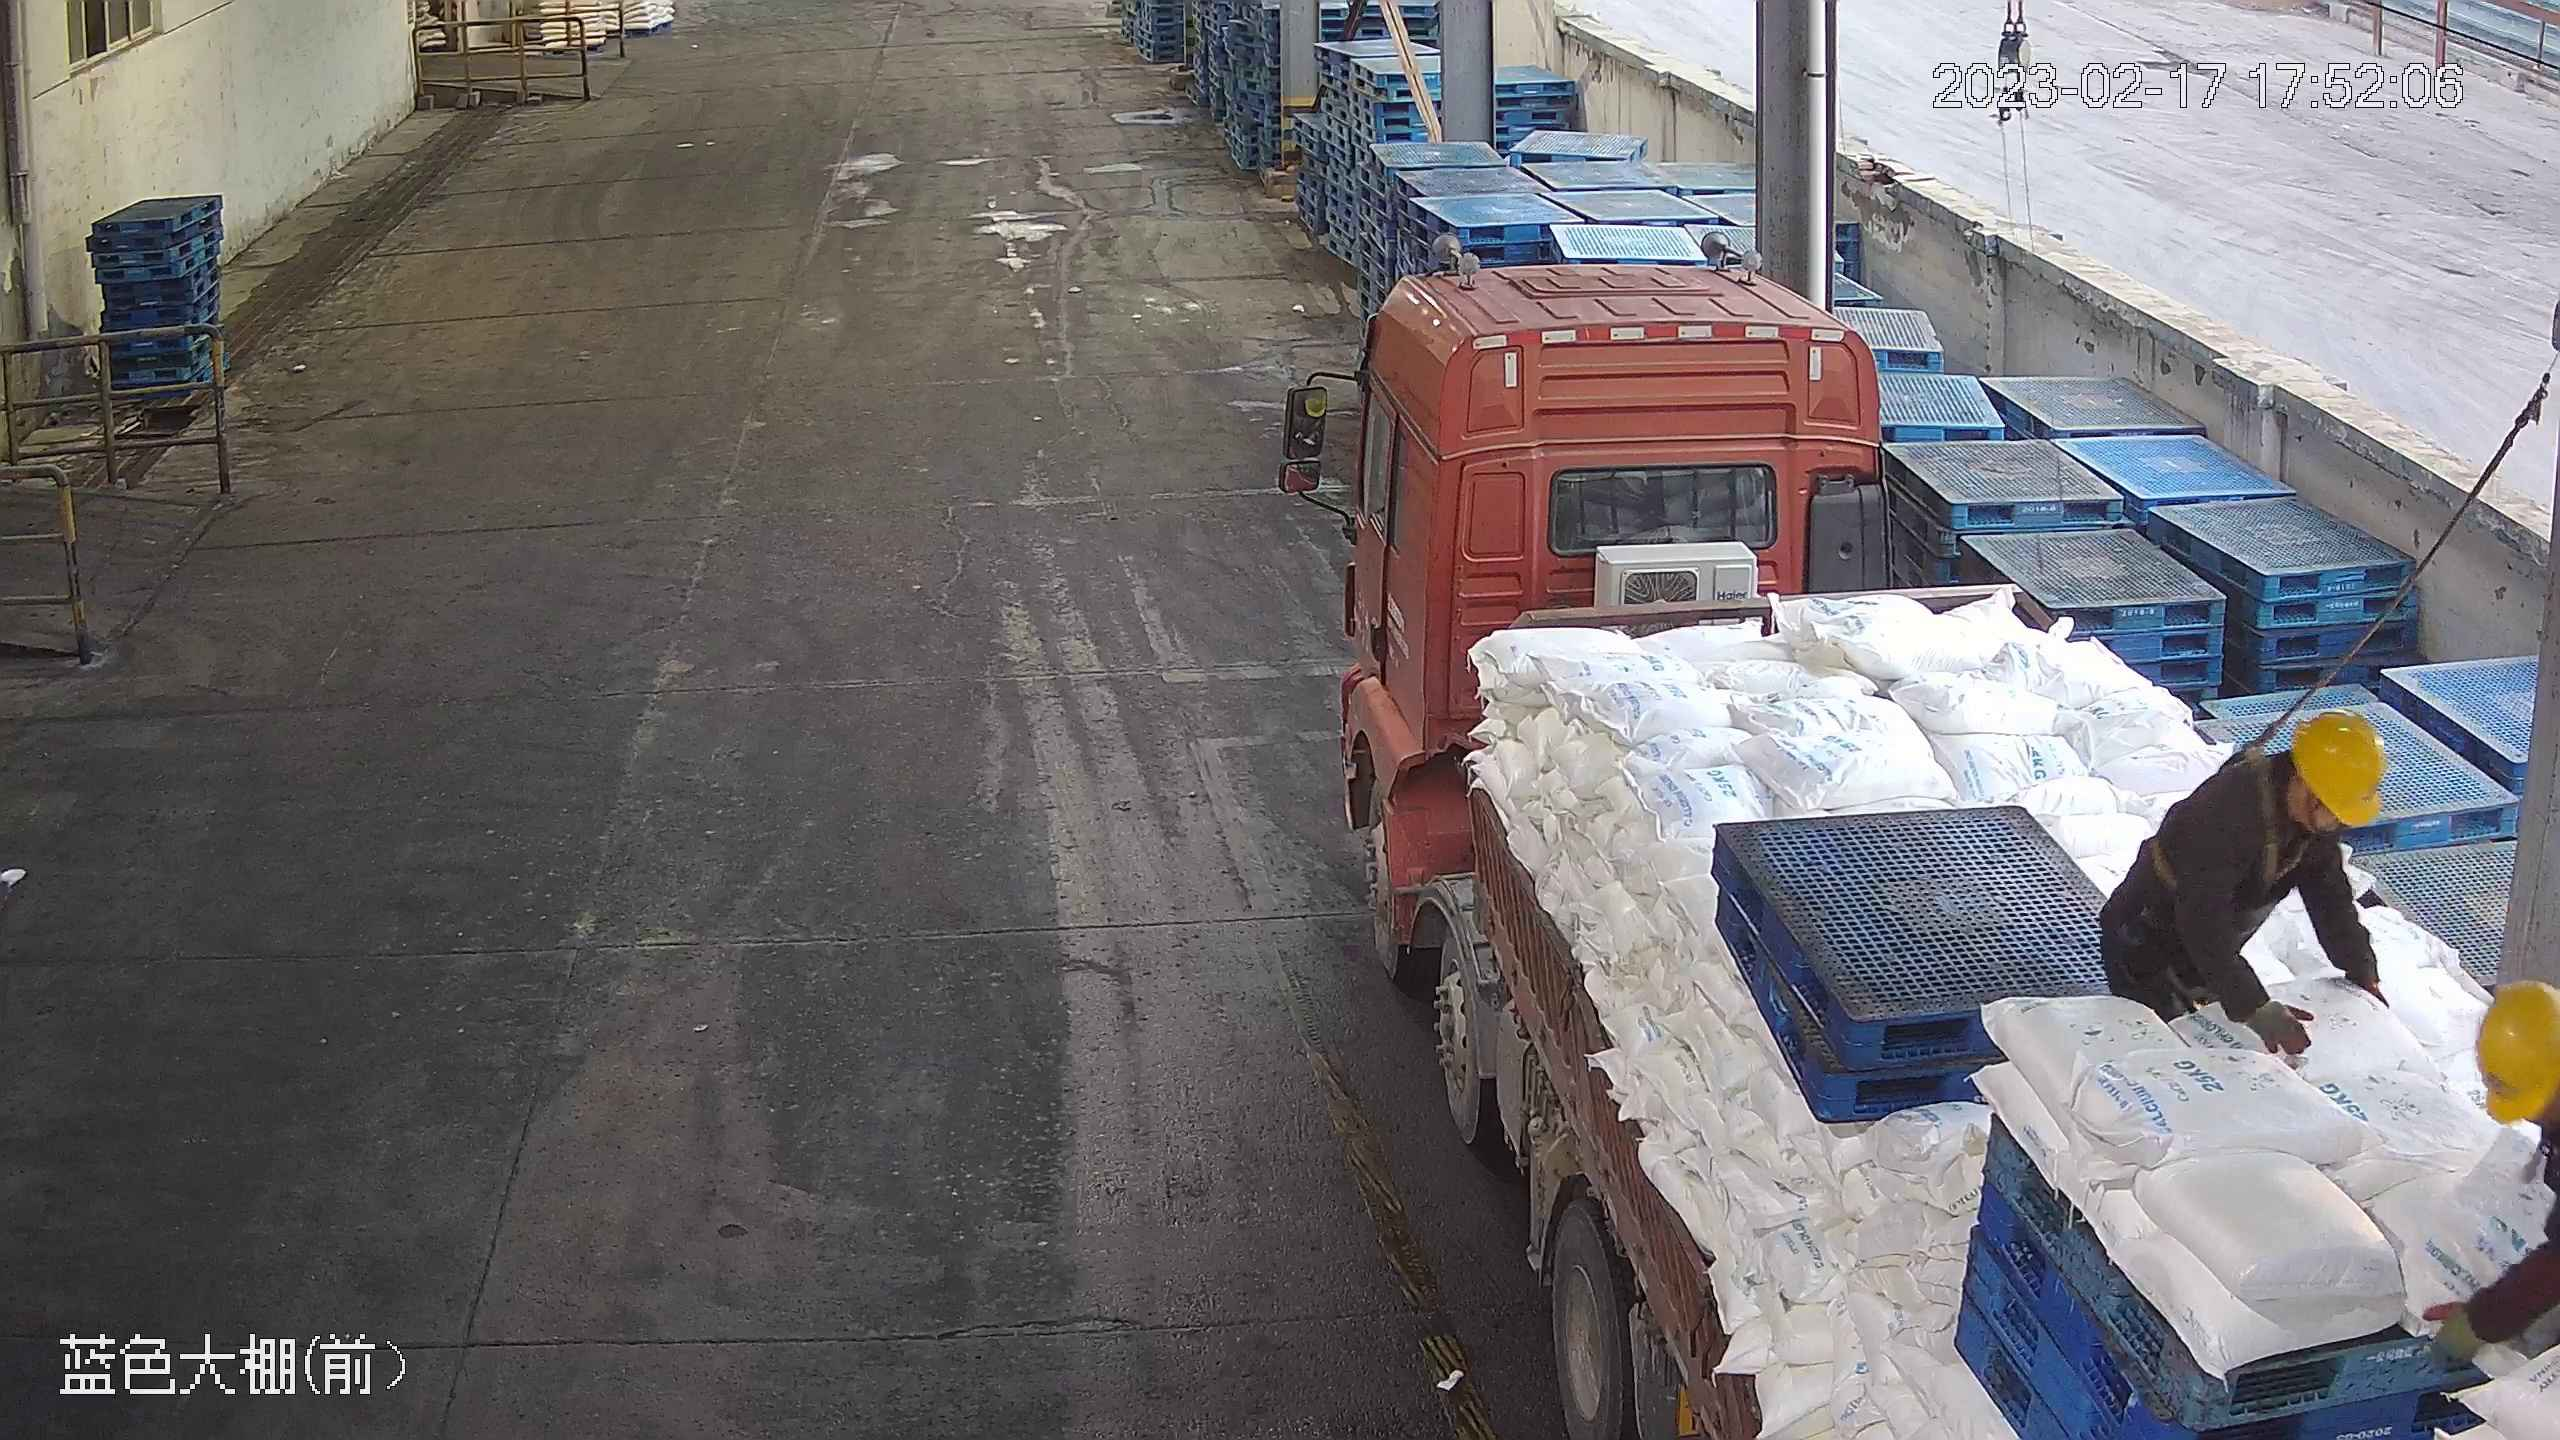belt: (2146, 747, 2308, 894)
head: (2189, 706, 2390, 866)
helmet: (2469, 978, 2560, 1125), (2291, 705, 2386, 824)
people: (2096, 706, 2396, 1064)
truck: (1281, 233, 2558, 1440)
